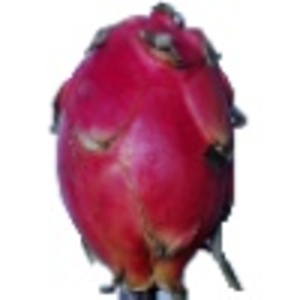pitaia: (49, 1, 250, 300)
